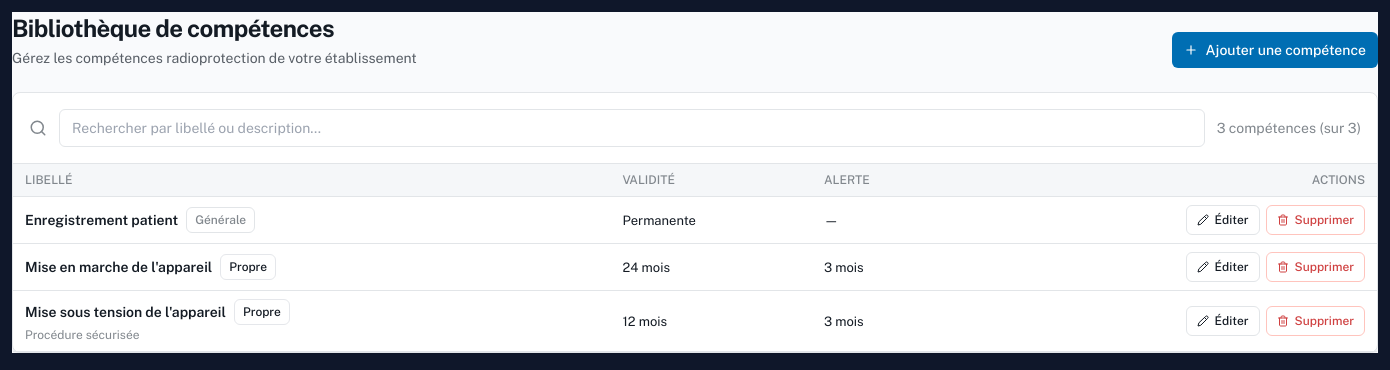
Test: CompetencesList - Recherche › la barre de recherche filtre les compétences par libellé
The width and height of the screenshot is (1390, 370).
Check: the text "Mise sous tension de l'appareil" is shown, box [25,302,226,322]
Type "enregistrement" into the field with placeholder "Rechercher par libellé ou description…" at (632, 128), box [59,109,1205,147]
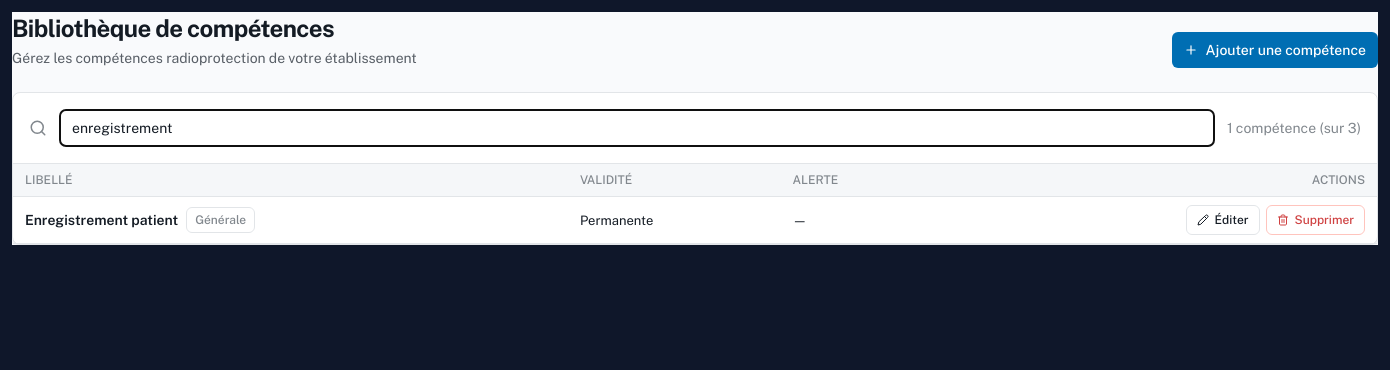
Check: the text "Enregistrement patient" is shown, box [25,210,178,230]
Check: the text "Mise sous tension de l'appareil" is gone
Check: the text "Mise en marche de l'appareil" is gone
